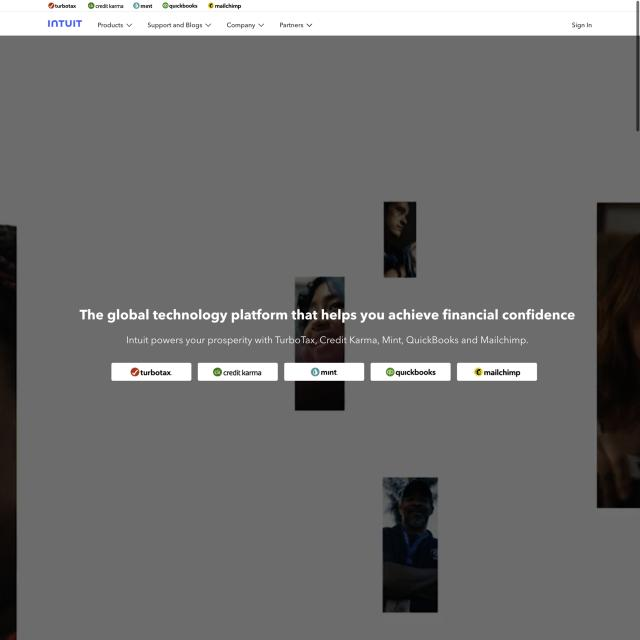logo: (45, 18, 85, 30), (130, 367, 139, 377), (213, 367, 222, 377), (474, 367, 483, 376), (386, 367, 394, 377), (310, 368, 320, 376)
navigation: (46, 0, 245, 11)
